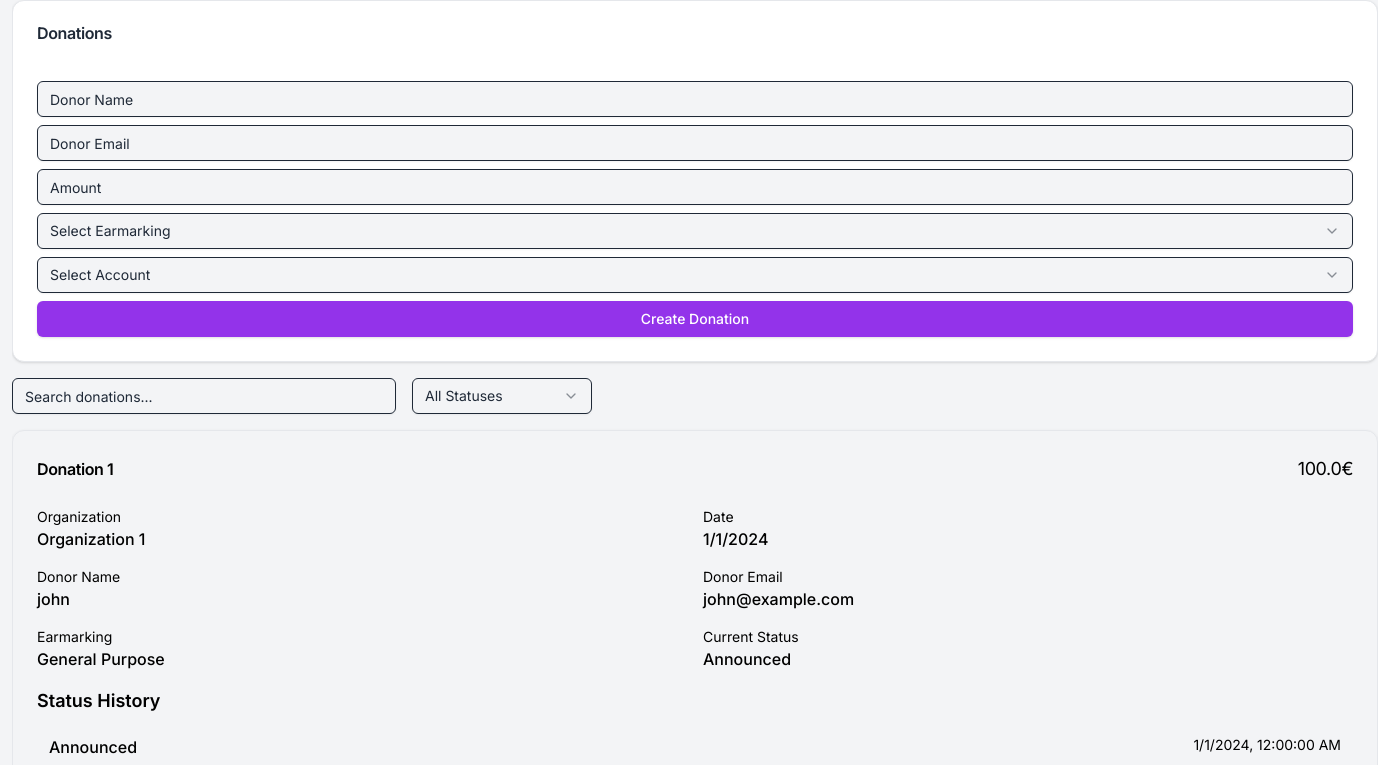
Test: DonationManager Component › creates a new donation with empty fields
Click the button "Create Donation". click: {"x": 695, "y": 319}
box: [37, 301, 1353, 337]
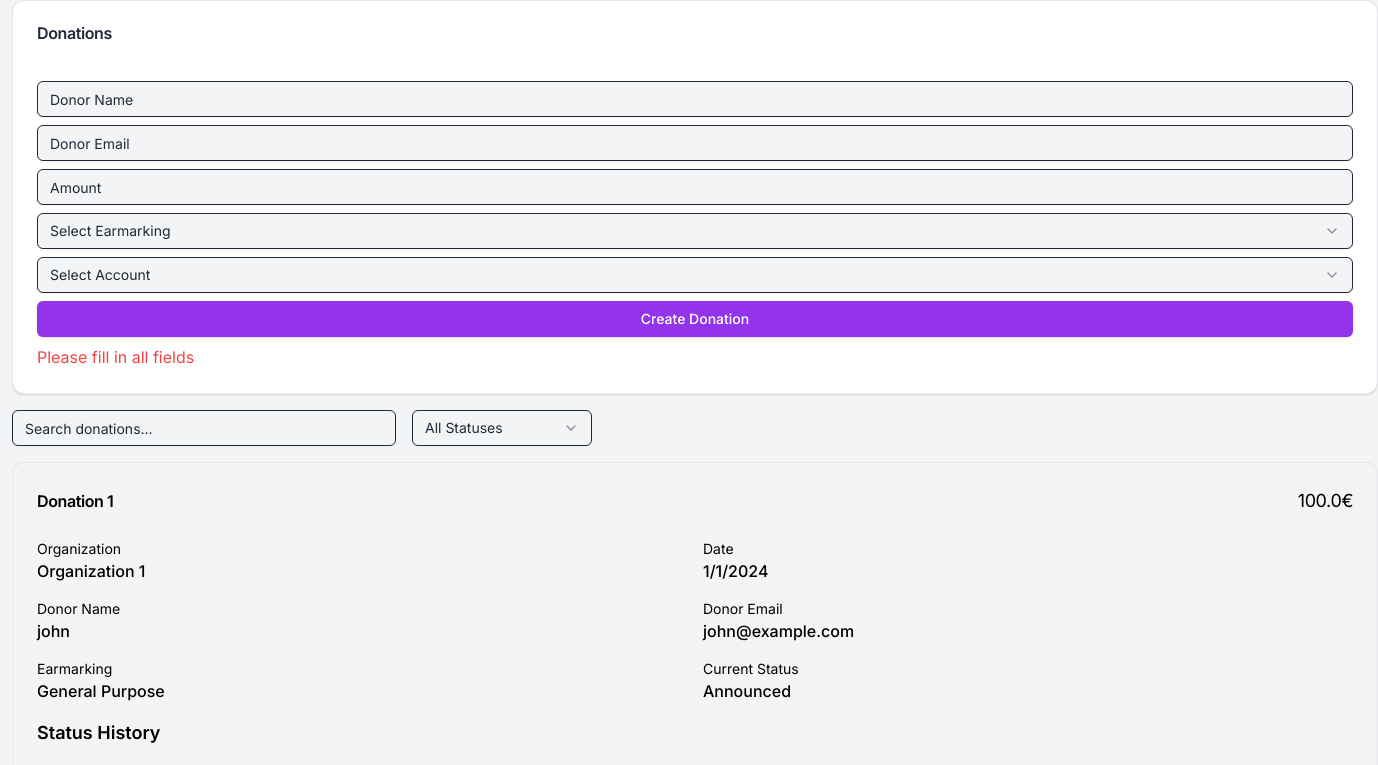
Expected: the text "Please fill in all fields" is shown, [37, 347, 194, 367]
